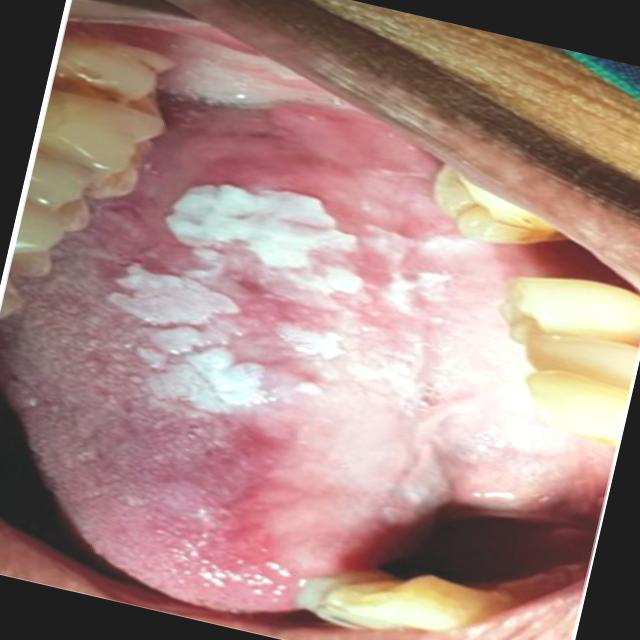Cancer: (93, 139, 456, 545)
